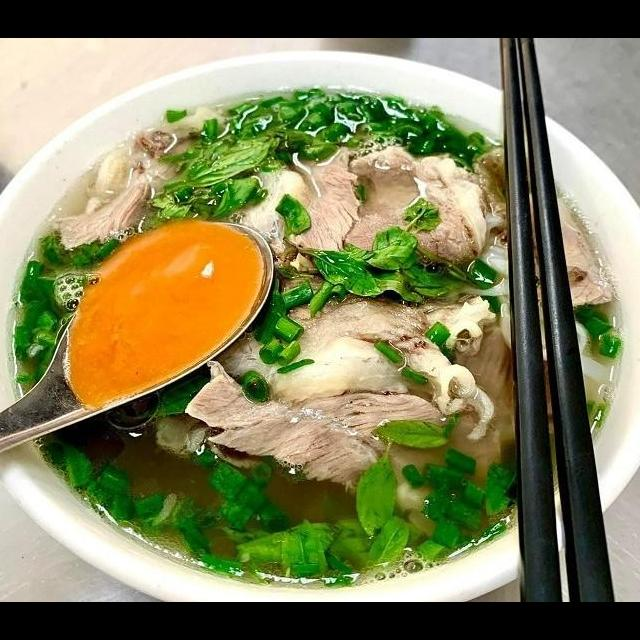thit bo: (168, 287, 515, 499), (467, 139, 619, 314), (326, 142, 500, 281), (208, 139, 366, 288), (50, 122, 200, 255)
